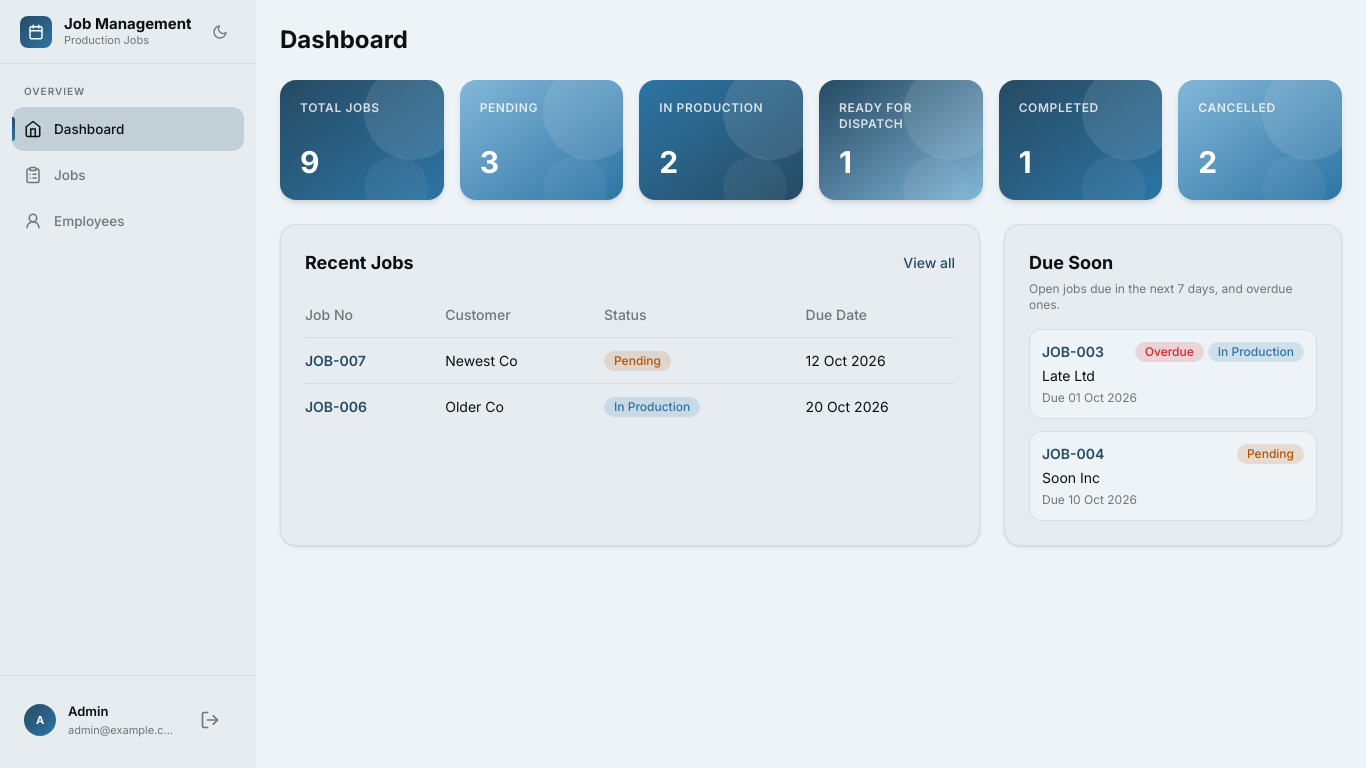
Test: dashboard status cards › opens the job list with the status filter applied when a card is clicked
Expected: the heading "Recent Jobs" is shown, [305,249,414,277]
Click the link "In Production 2".
click(721, 140)  # box [639,80,803,200]
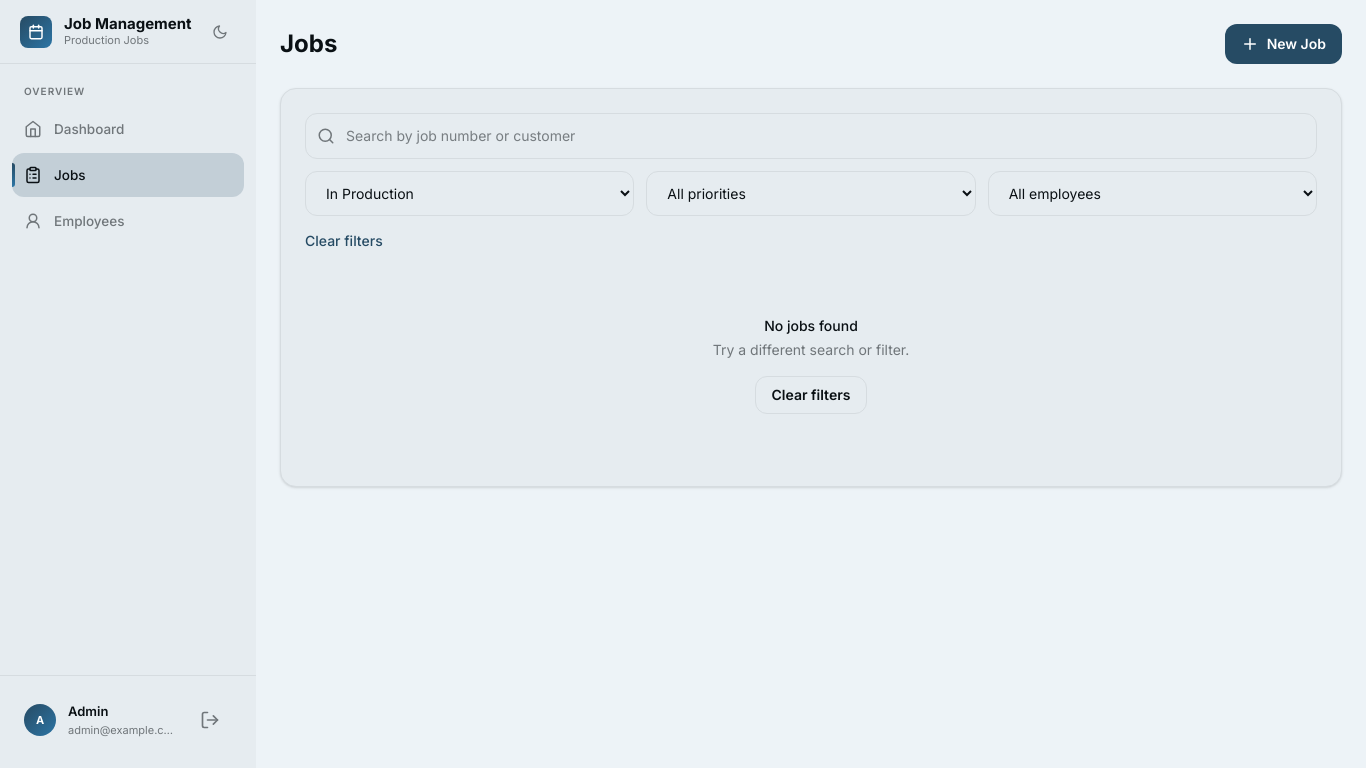
Expected: the dropdown named "Filter by status" shows "In Production", [305,171,634,216]
